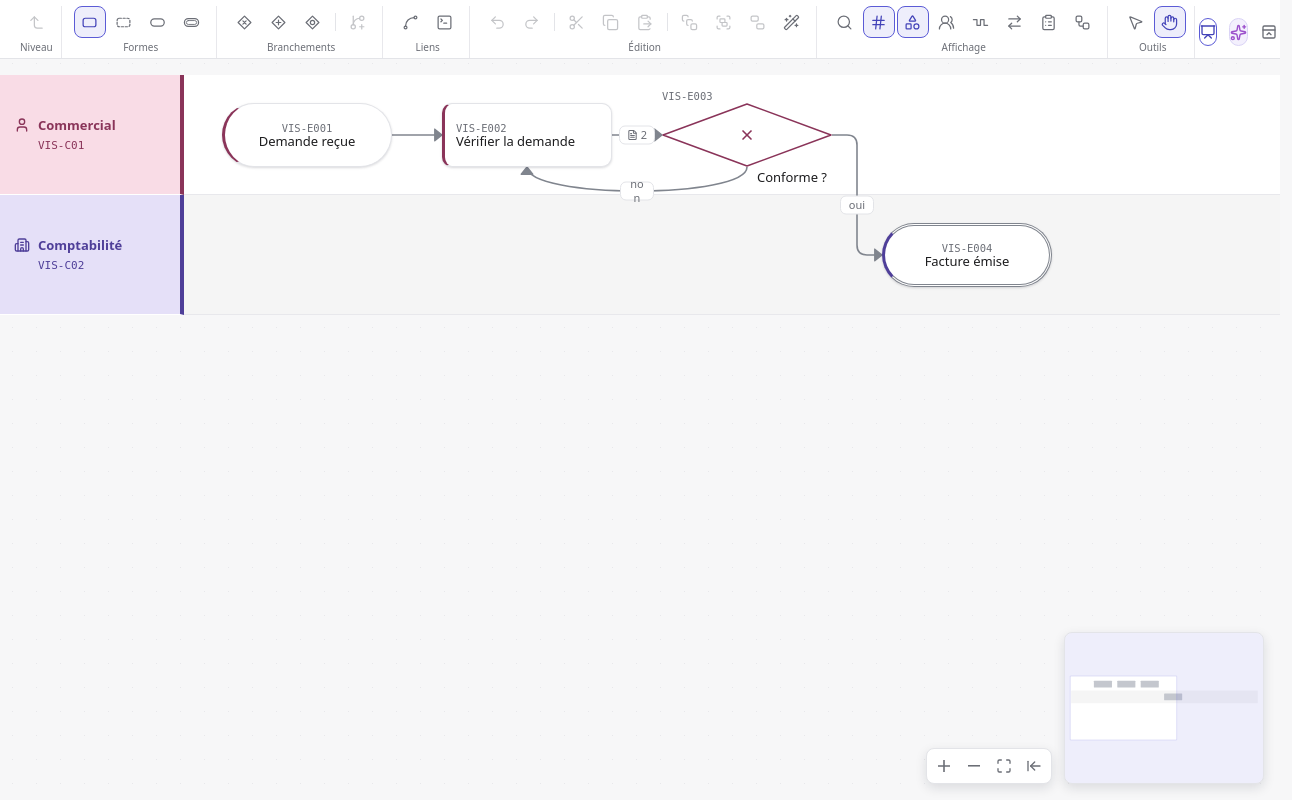
Test: Shift+1 with one step alone chosen (AR-151) › begins its name, as any character typed
Click the element with class "react-flow__node" showing "VIS-E002 Vérifier la demande".
click(527, 135)  # box top-left (442, 103), bottom-right (612, 167)
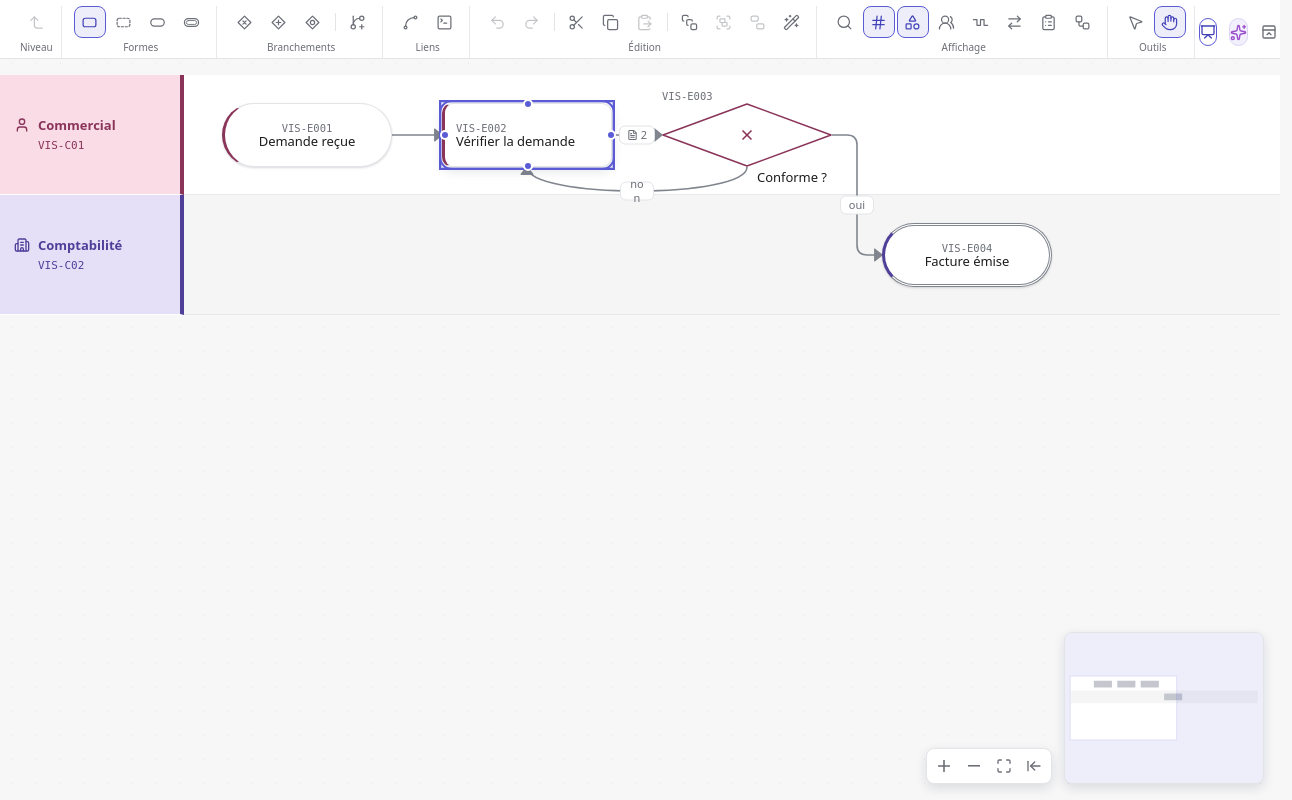
Type keys "{Shift>}1{/Shift}"
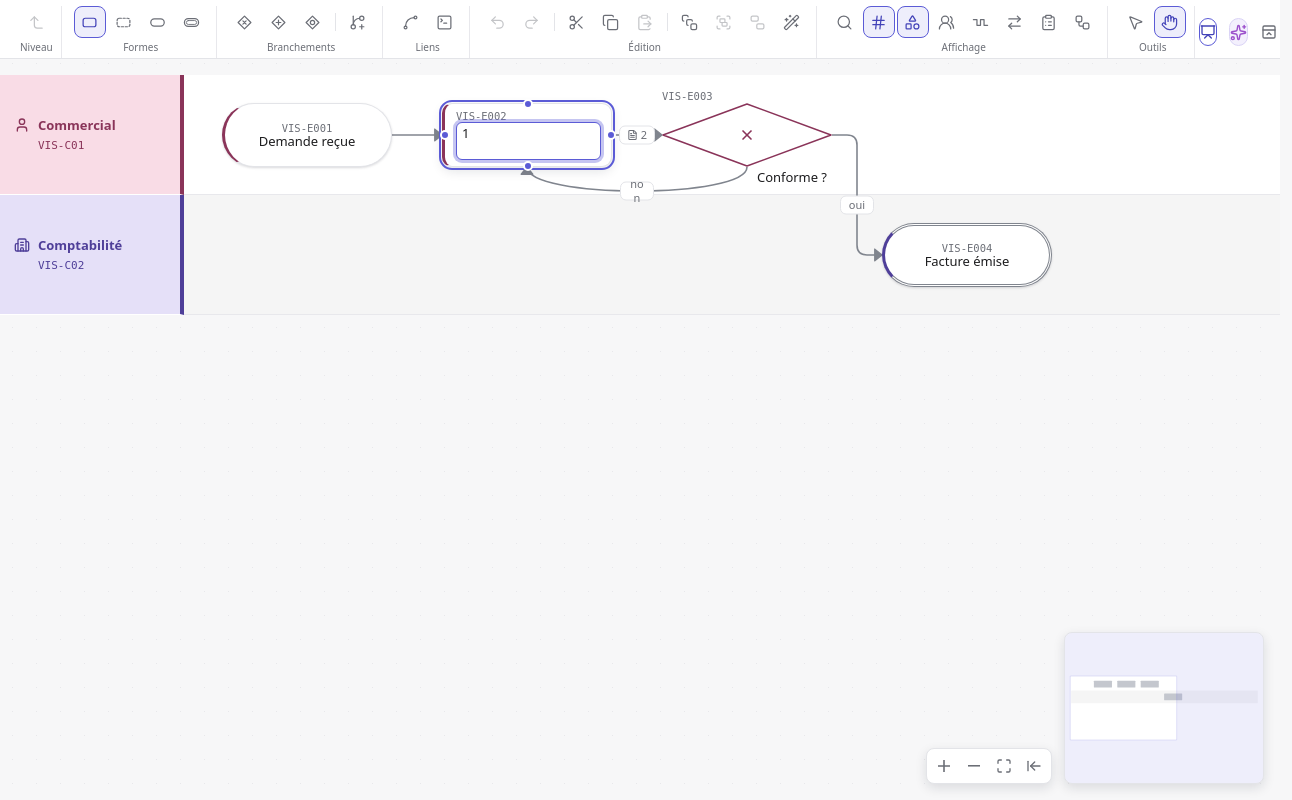
Result: the text box with test id "step-label-input" holds "1" at top-left (456, 122), bottom-right (601, 160)
